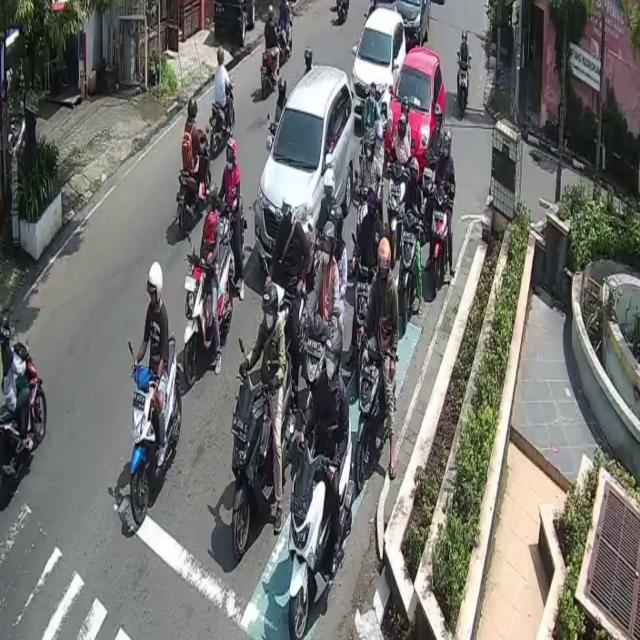bus: (289, 411, 354, 640), (233, 360, 295, 559), (130, 332, 182, 527), (181, 240, 231, 385), (0, 342, 45, 480), (359, 343, 399, 489), (178, 128, 212, 234), (397, 212, 418, 333), (430, 191, 450, 300), (208, 81, 235, 159), (455, 58, 469, 122), (261, 50, 278, 99)
motorcycle: (255, 63, 356, 273), (386, 46, 446, 180), (358, 1, 412, 118), (399, 0, 430, 52)
